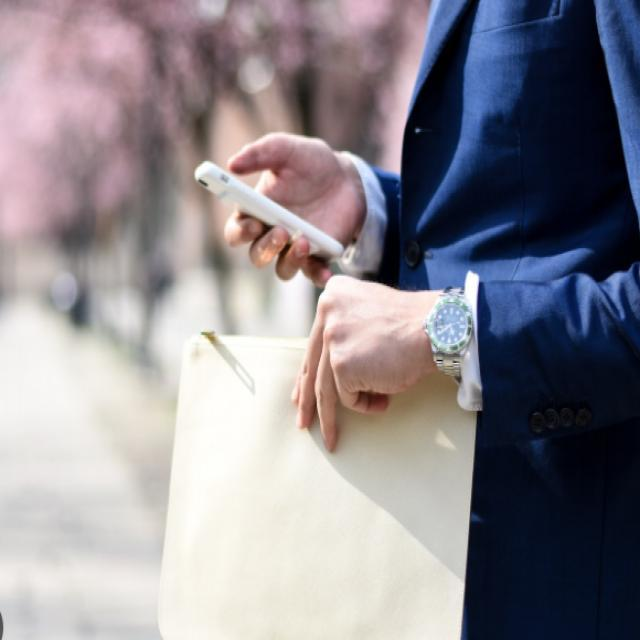Watch: (425, 282, 473, 385)
